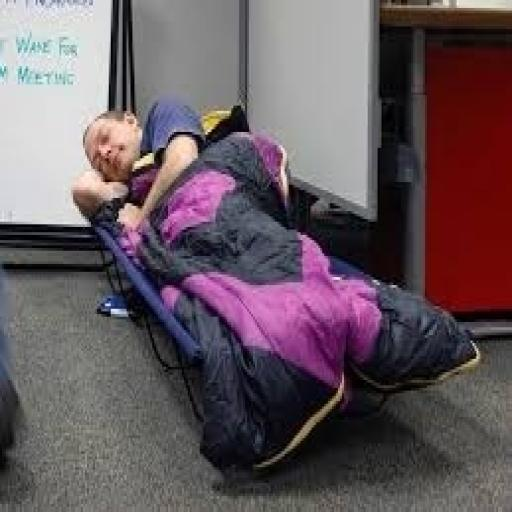sleeping: (70, 92, 484, 480)
